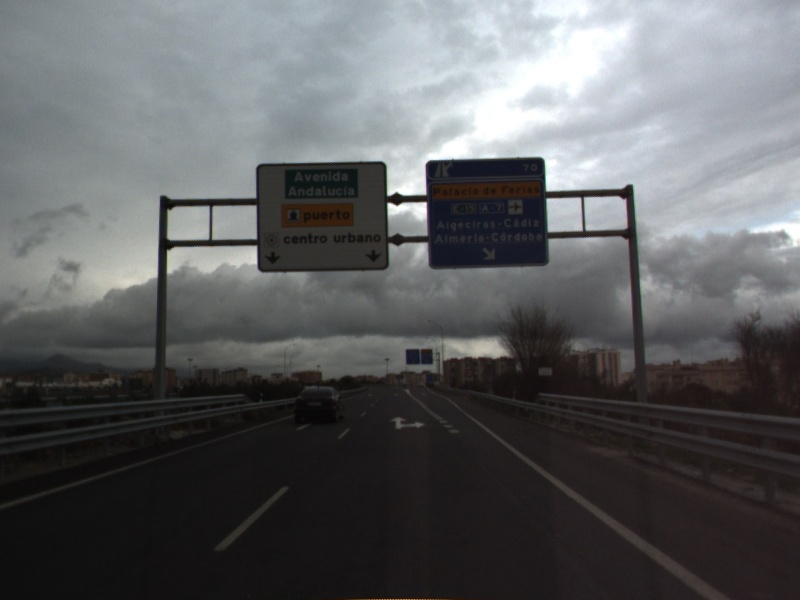STRAIGHT_RIGHT: (388, 414, 429, 432)
